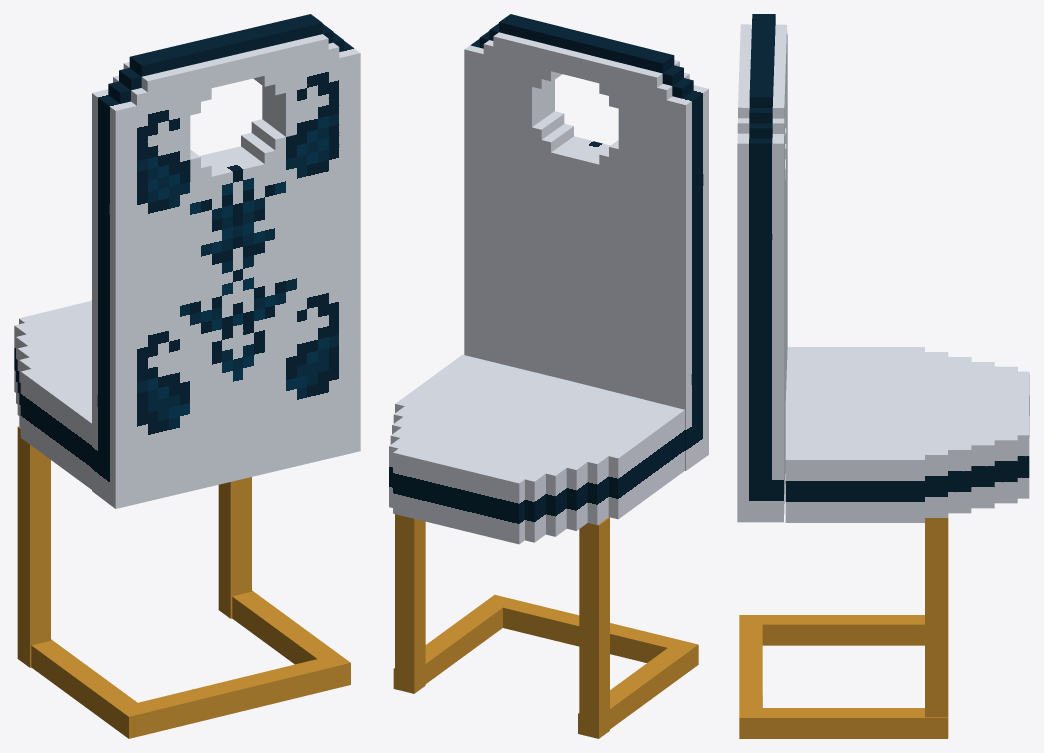
File: chair.gltf
The picture shows the model from 3 angles, left to right: view 1: azimuth 30°, elevation 25°; view 2: azimuth 150°, elevation 25°; view 3: azimuth 270°, elevation 25°; orthographic projection. The views are drawn at different scales.
Visible parts, largest first — view 1: back-Local, foot-Local, sit-Local, chair-Local; view 2: back-Local, sit-Local, chair-Local, foot-Local; view 3: sit-Local, back-Local, foot-Local, chair-Local.
Part boxes in pixels (<box>): back-Local: <box>92,14,360,508</box>; foot-Local: <box>31,590,350,738</box>; sit-Local: <box>14,300,91,489</box>; chair-Local: <box>17,426,251,667</box>; back-Local: <box>464,14,708,470</box>; sit-Local: <box>389,354,684,544</box>; chair-Local: <box>395,514,609,738</box>; foot-Local: <box>393,594,698,738</box>; sit-Local: <box>785,347,1029,522</box>; back-Local: <box>737,14,787,522</box>; foot-Local: <box>739,615,947,738</box>; chair-Local: <box>925,513,948,737</box>.
Size of the model in its own units: 23.18 by 60 by 25.16.
4 materials, 4 textured.
